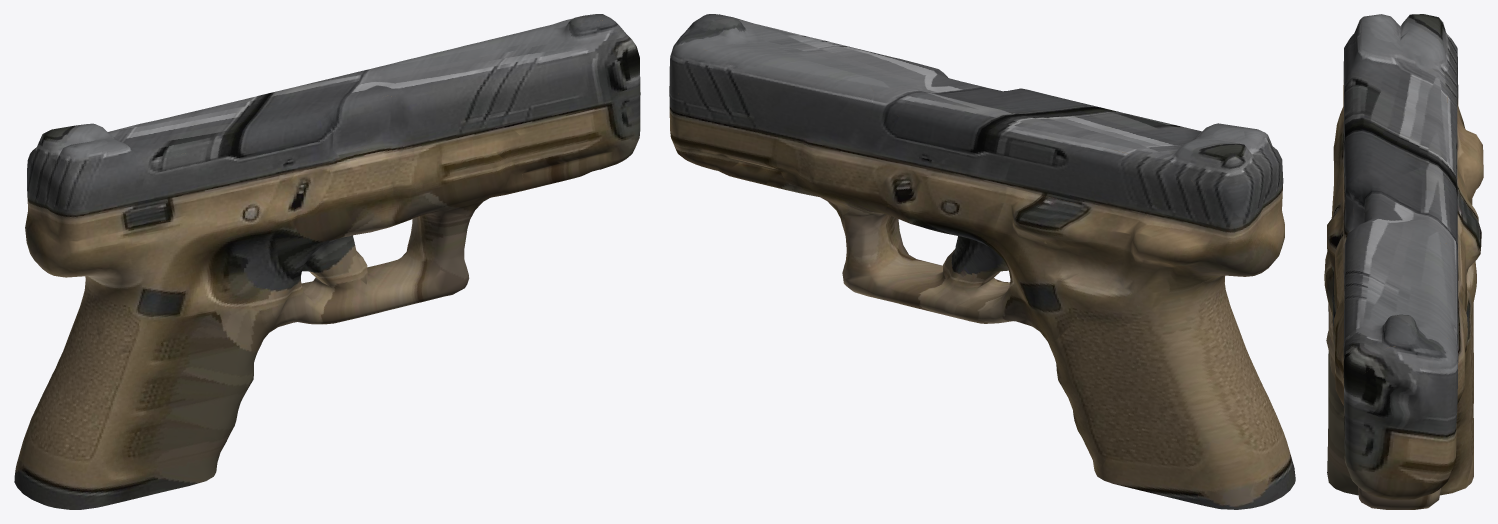
Rendered from pistol.glb.
3 renders of one model, left to right at view 1: azimuth 30°, elevation 25°; view 2: azimuth 150°, elevation 25°; view 3: azimuth 270°, elevation 25°, orthographic. The views are drawn at different scales.
Visible parts, largest first — view 1: geometry_0; view 2: geometry_0; view 3: geometry_0.
Part boxes in pixels (left/top/right/bottom): geometry_0: left=14, top=14, right=640, bottom=509; geometry_0: left=669, top=14, right=1295, bottom=509; geometry_0: left=1324, top=14, right=1483, bottom=509.
Bounding box in the file's own units: 0.2299 × 0.1257 × 0.0449.
1 material, 1 textured.
